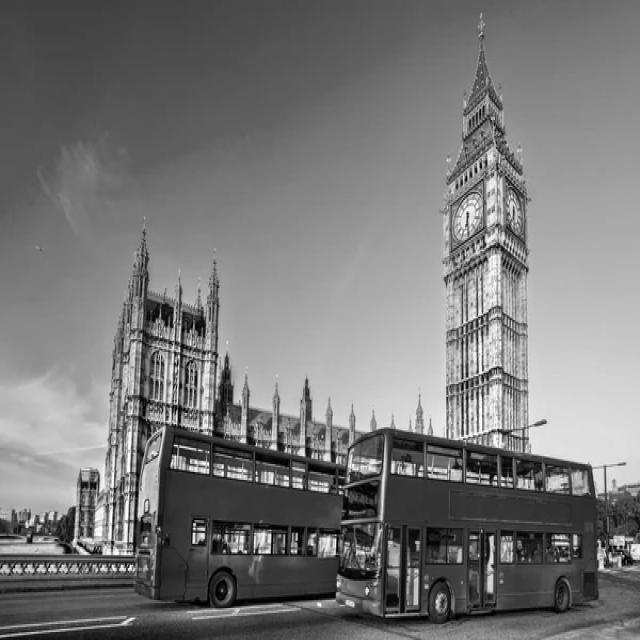Bus: (337, 429, 599, 623), (134, 427, 346, 607)
